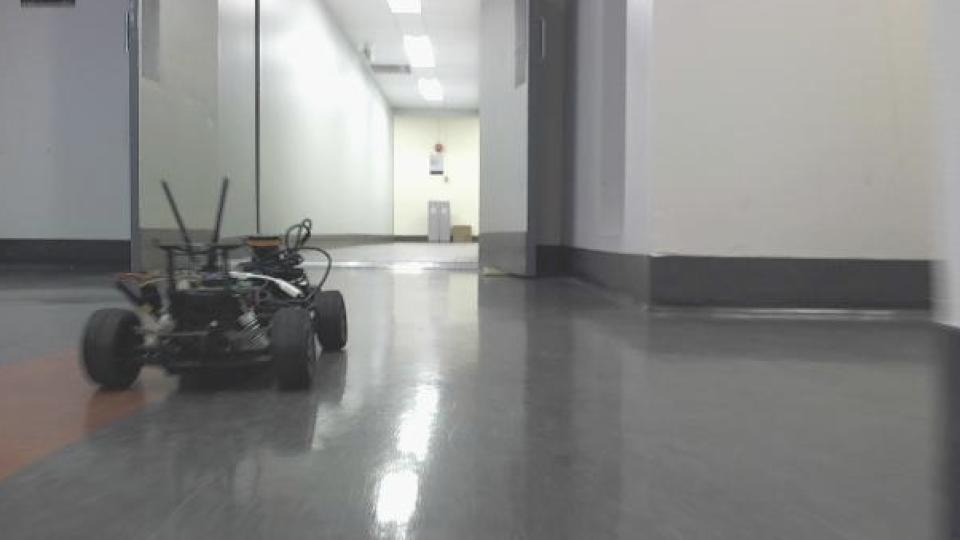car: (76, 176, 351, 396)
